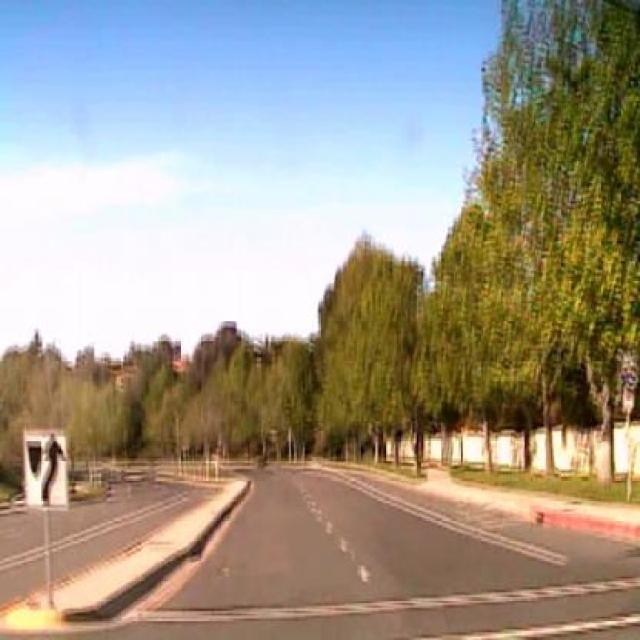keepRight: (22, 429, 68, 511)
